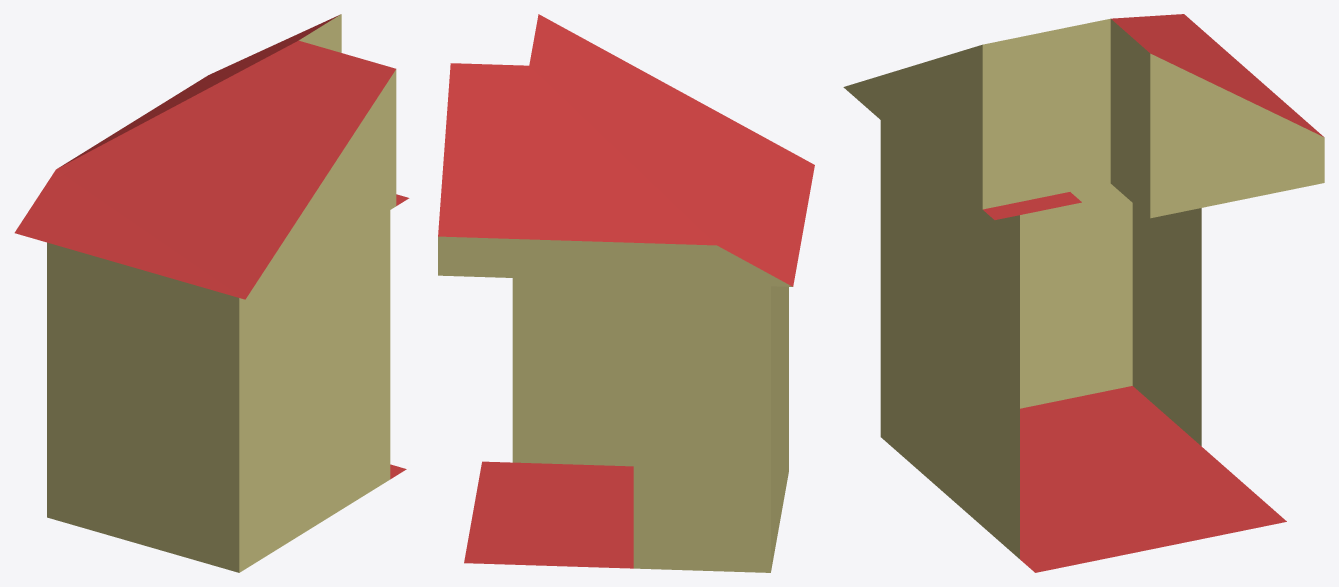
The picture shows the model from 3 angles, left to right: view 1: azimuth 30°, elevation 25°; view 2: azimuth 150°, elevation 25°; view 3: azimuth 270°, elevation 25°; orthographic projection. The views are drawn at different scales.
Size of the model in its own units: 8.56 by 8.59 by 10.02.
